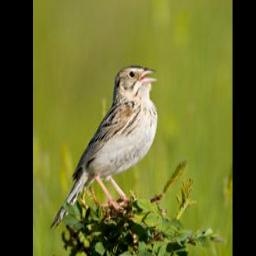Sparrow: (44, 65, 154, 232)
